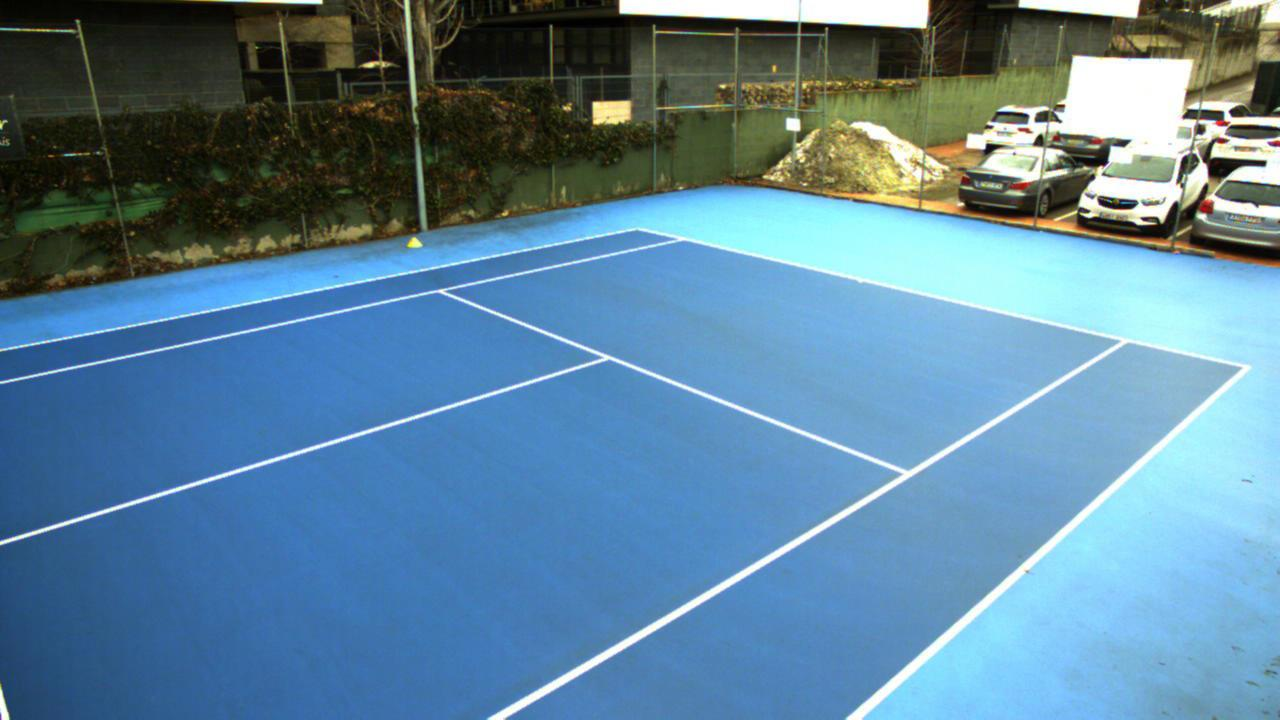cancha_tenis: (0, 236, 1129, 720)
point_f1: (666, 231, 691, 248)
point_f2: (1105, 330, 1133, 353)
point_fc1: (851, 271, 866, 288)
point_i1: (432, 281, 455, 303)
point_i2: (888, 463, 918, 488)
point_ic1: (586, 344, 621, 370)
